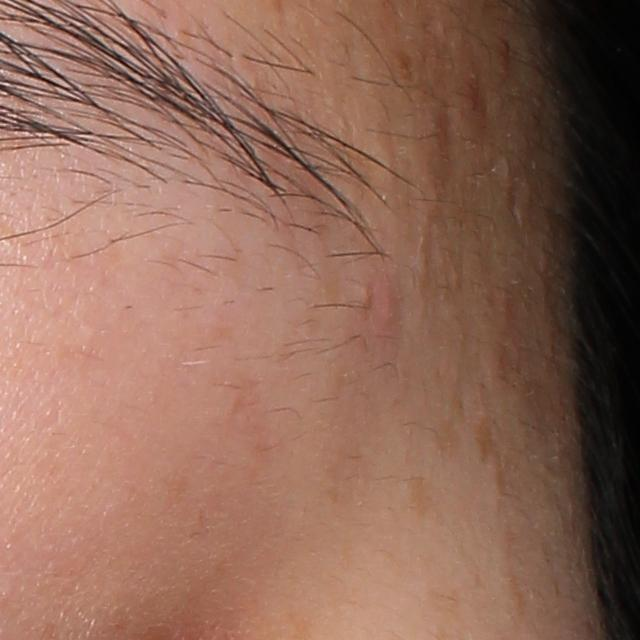melasma: (467, 392, 511, 503), (499, 508, 526, 614), (405, 471, 441, 523)
papule: (373, 274, 399, 331)
